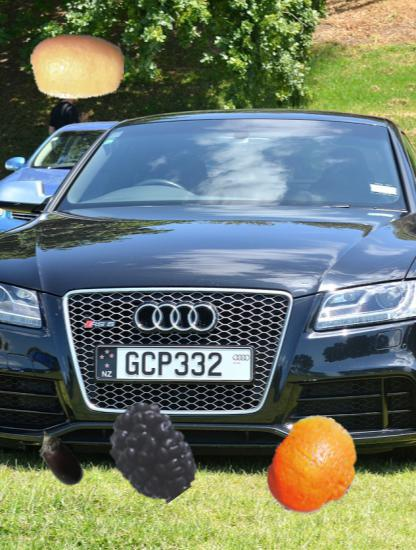Eggplant: (26, 426, 92, 492)
Kumquats: (30, 20, 125, 115)
Mandarine: (262, 415, 365, 518)
Mulberry: (99, 401, 203, 505)
